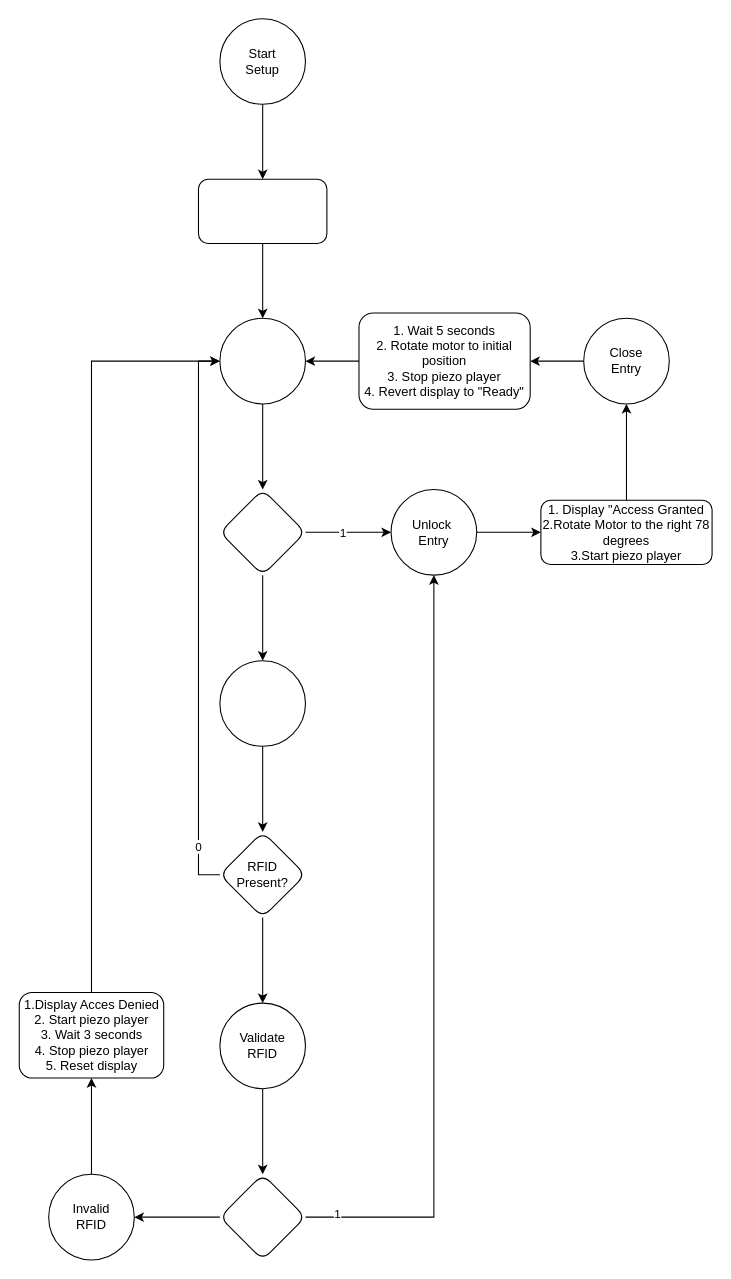
Some shapes in this 731 by 1279 pixel diagram are drawn without their labels. The centre of each missing label's shape, as x and y in pixels:
"Check Rfid" belongs at (x=262, y=703).
"Inside Access?" belongs at (x=262, y=531).
"Setup Components" belongs at (x=262, y=210).
"Start Loop" belongs at (x=262, y=360).
"Valid RFID?" belongs at (x=262, y=1216).
